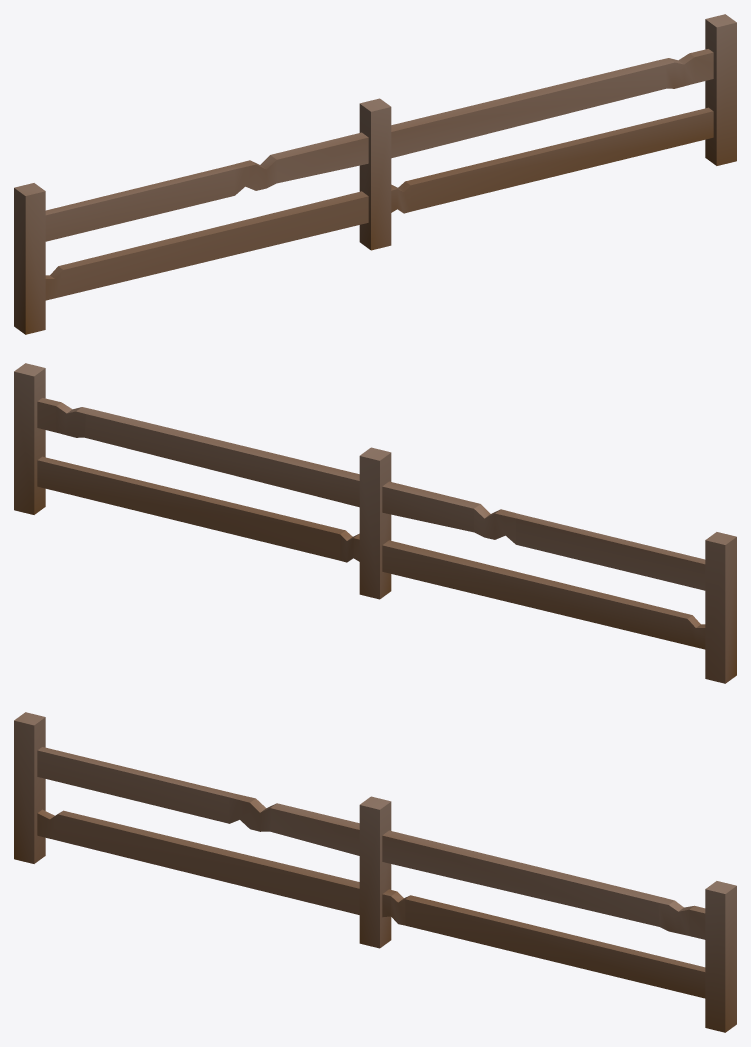
Rendered from cerco.glb.
The picture shows the model from 3 angles, top to bottom: view 1: azimuth 30°, elevation 25°; view 2: azimuth 150°, elevation 25°; view 3: azimuth 330°, elevation 25°; orthographic projection.
Visible parts, largest first — view 1: Fence_Cube.057; view 2: Fence_Cube.057; view 3: Fence_Cube.057.
Boxes of the visible parts, <box> form: Fence_Cube.057: <box>14,14,736,334</box>; Fence_Cube.057: <box>14,363,736,683</box>; Fence_Cube.057: <box>14,712,736,1032</box>.
Size of the model in its own units: 5.89 by 1.1 by 0.1654.
